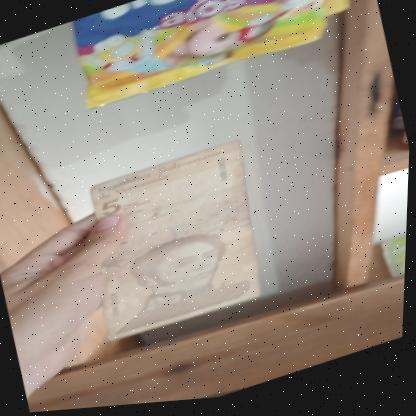five-front-vef: (71, 137, 279, 350)
